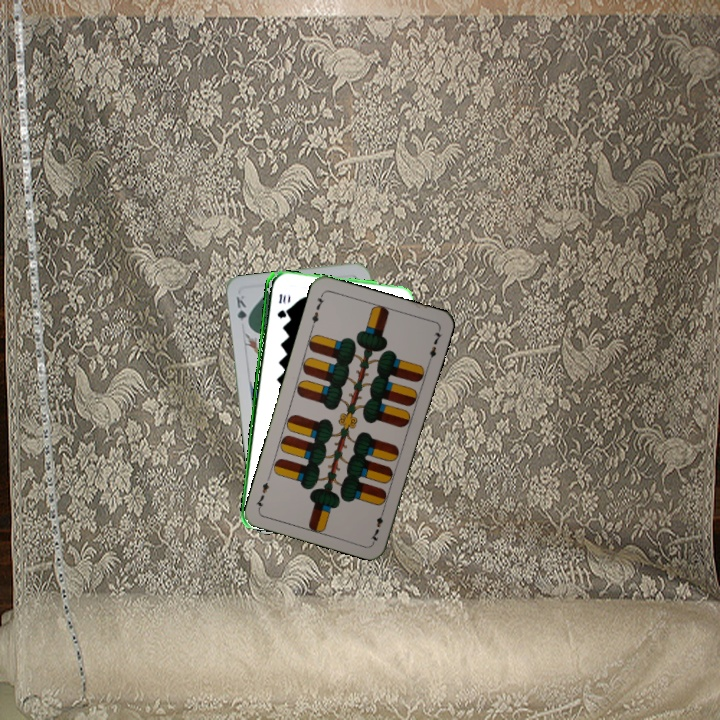E7: (366, 505, 387, 544), (308, 290, 327, 330)
G10: (273, 290, 286, 321)
GK: (232, 291, 252, 330)
